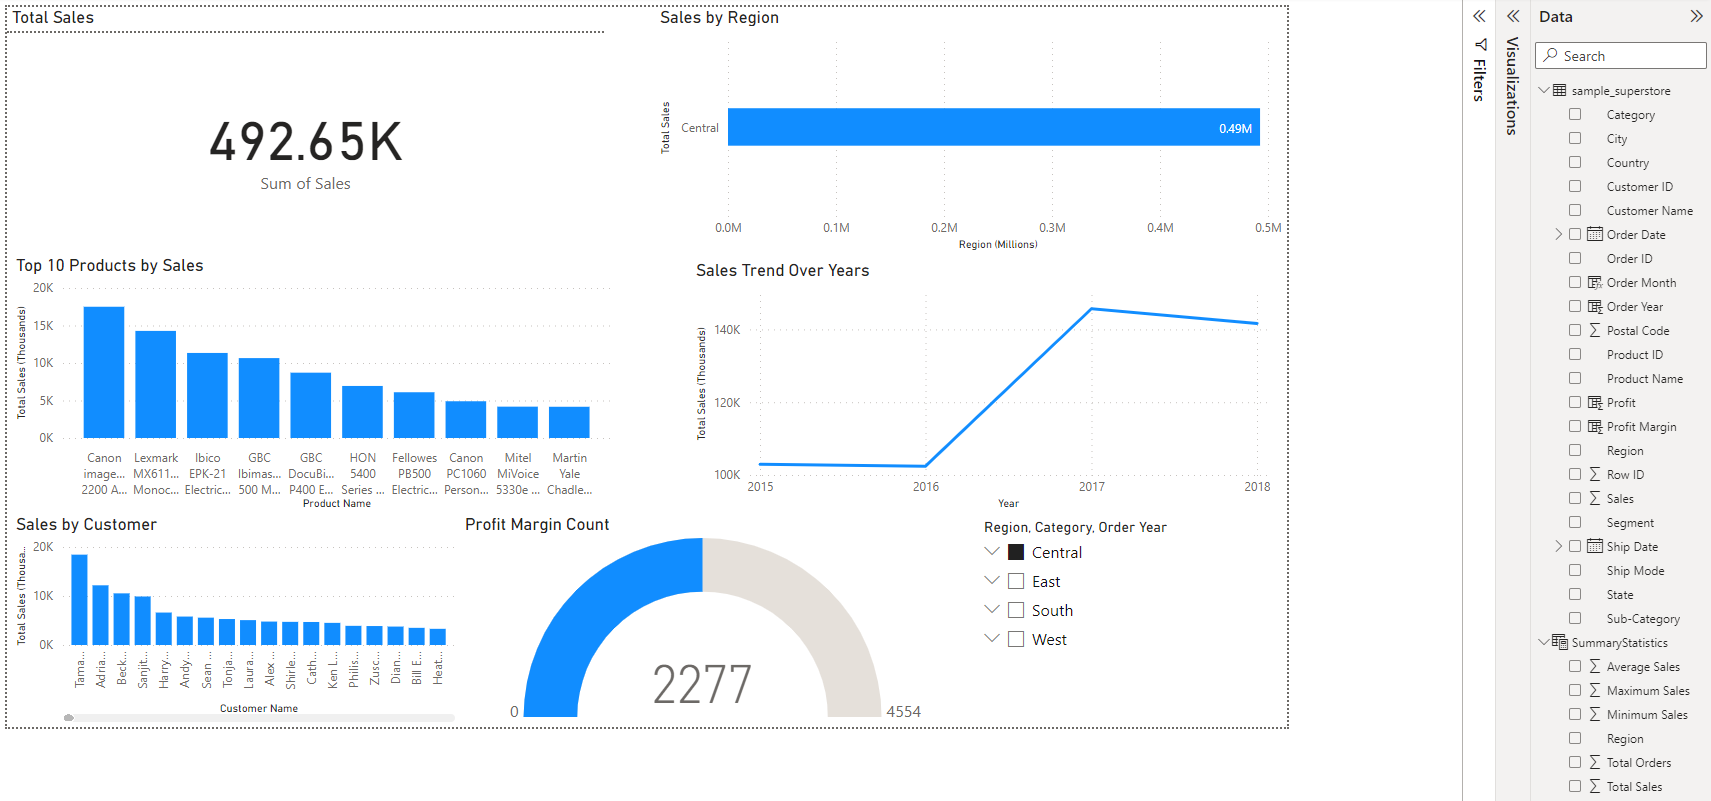

Layout of this report page (visuals, bound fields, positions):
{"tool":"powerbi","page":{"name":"Page 1","canvas":[1280,720],"ordinal":0},"visuals":[{"type":"card","fields":{"Values":["sample_superstore.Sales"]},"box":[0,0,597.2,248],"z":0},{"type":"barChart","title":"Sales by Region","fields":{"Category":["sample_superstore.Region"],"Y":["sample_superstore.Sales"]},"box":[647.8,0,632.2,248],"z":1000},{"type":"columnChart","fields":{"Category":["sample_superstore.Product Name"],"Y":["sample_superstore.Sales"]},"box":[3.9,248,605,258.7],"z":2000},{"type":"lineChart","fields":{"Category":["sample_superstore.Order Date.Variation.Date Hierarchy.Year","sample_superstore.Order Date.Variation.Date Hierarchy.Quarter","sample_superstore.Order Date.Variation.Date Hierarchy.Month","sample_superstore.Order Date.Variation.Date Hierarchy.Day"],"Y":["sample_superstore.Sales"]},"box":[683.8,252.9,584.6,253.9],"z":3000},{"type":"barChart","fields":{"Category":["sample_superstore.Customer Name"],"Y":["sample_superstore.Sales"]},"box":[3.9,506.7,449.4,213],"z":4000},{"type":"gauge","fields":{"Y":["sample_superstore.Profit Margin"]},"box":[453.3,506.7,510.6,213],"z":5000},{"type":"slicer","fields":{"Values":["sample_superstore.Region","sample_superstore.Category","sample_superstore.Order Year"]},"box":[963.9,506.7,316.1,213],"z":6000}]}

Visuals, with their boxes on the page's 1280x720 design canvas (x1, y1, x2, y2). These are canvas units, not pixel positions in the 1711x801 screenshot, which may show the page scaled, cropped or inside an application window:
card - sample_superstore.Sales: x1=0, y1=0, x2=597, y2=248
"Sales by Region" barChart: x1=648, y1=0, x2=1280, y2=248
columnChart - sample_superstore.Product Name x sample_superstore.Sales: x1=4, y1=248, x2=609, y2=507
lineChart - sample_superstore.Order Date.Variation.Date Hierarchy.Year x sample_superstore.Order Date.Variation.Date Hierarchy.Quarter: x1=684, y1=253, x2=1268, y2=507
barChart - sample_superstore.Customer Name x sample_superstore.Sales: x1=4, y1=507, x2=453, y2=720
gauge - sample_superstore.Profit Margin: x1=453, y1=507, x2=964, y2=720
slicer - sample_superstore.Region x sample_superstore.Category: x1=964, y1=507, x2=1280, y2=720
